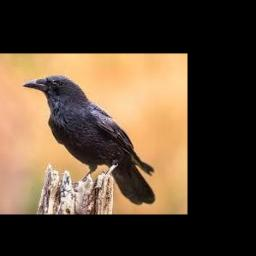Crow: (22, 75, 156, 205)
